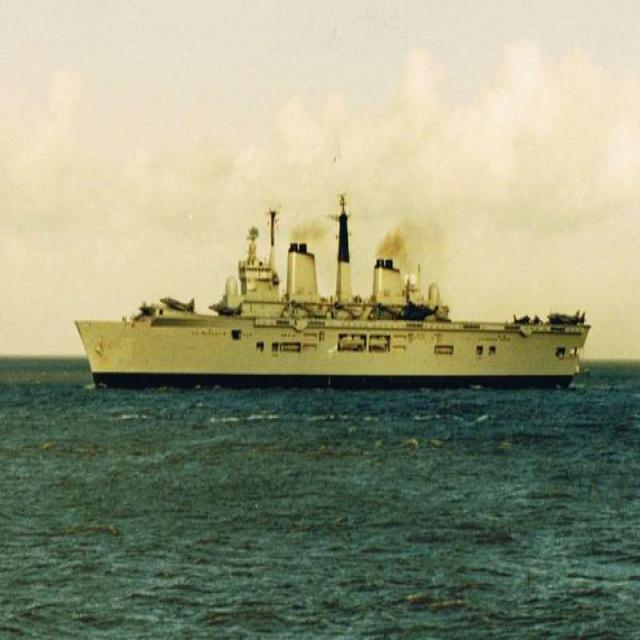Portanaves: (70, 189, 594, 399)
